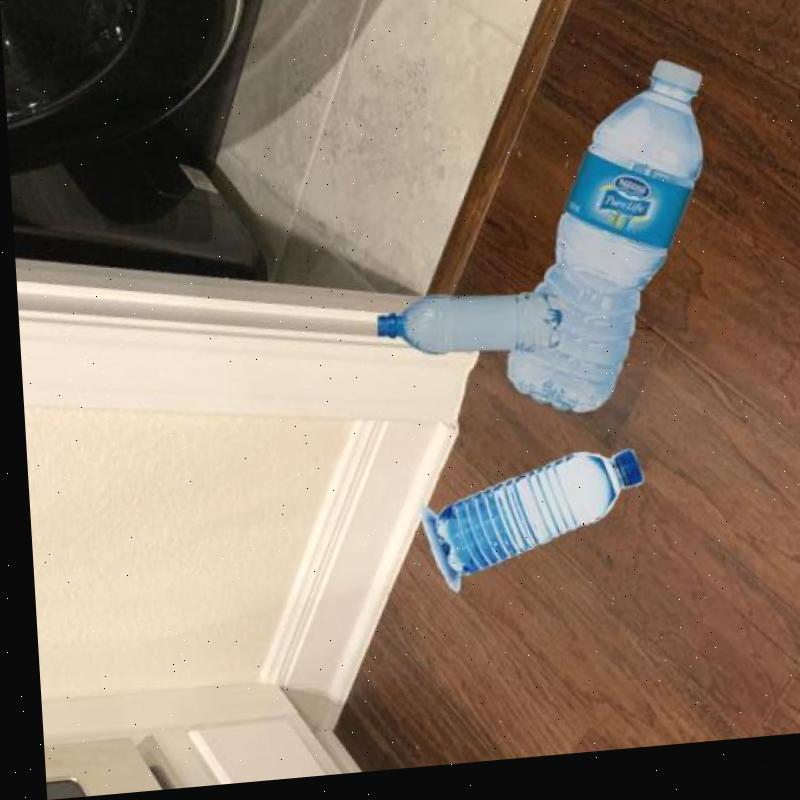botella: (484, 65, 717, 431), (423, 454, 643, 587), (372, 294, 557, 365)
